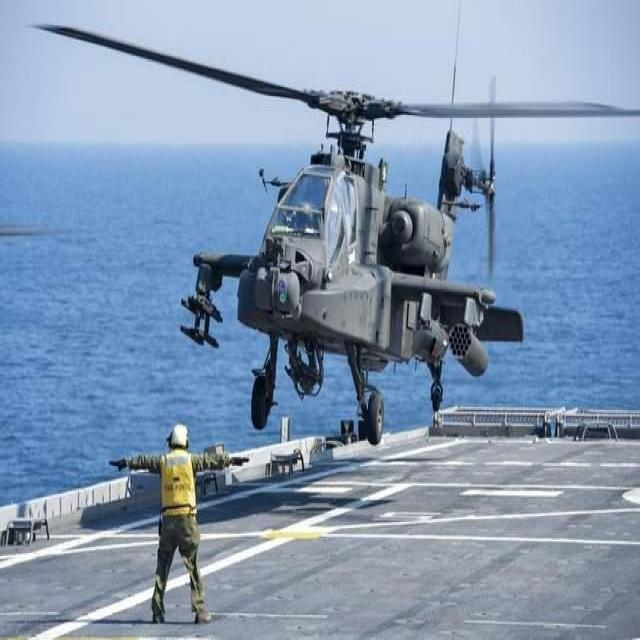MIL_HELO: (39, 2, 632, 436)
